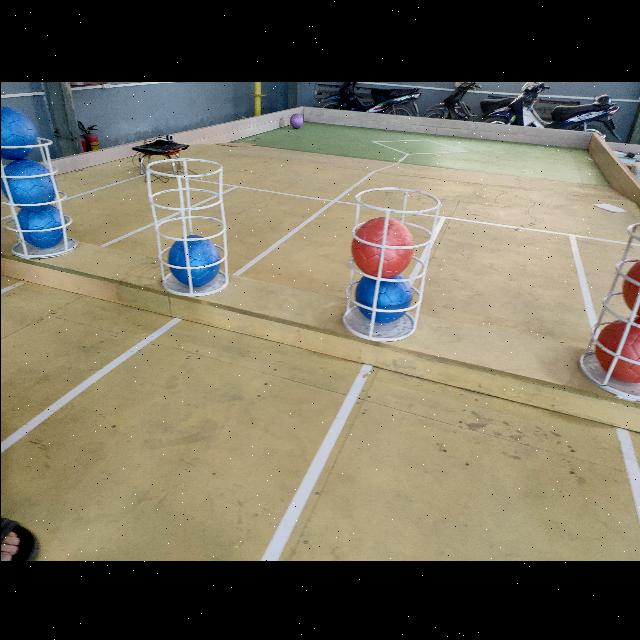B: (355, 270, 411, 318), (1, 158, 55, 206), (169, 232, 215, 286), (19, 202, 65, 246), (1, 102, 36, 158)
R: (348, 214, 410, 272), (594, 312, 640, 383), (622, 251, 640, 313)
